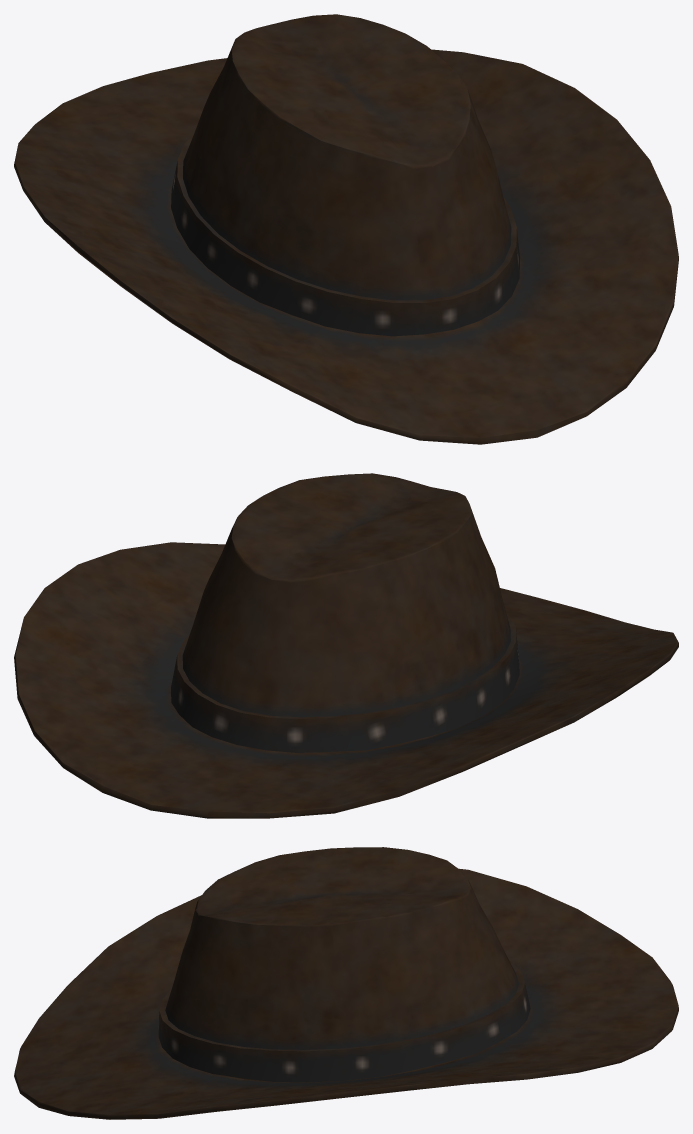
The model's file is wear_cowboy.glb.
The picture shows the model from 3 angles, top to bottom: view 1: azimuth 30°, elevation 25°; view 2: azimuth 150°, elevation 25°; view 3: azimuth 270°, elevation 25°; orthographic projection. The views are drawn at different scales.
Parts seen in each view (by area): view 1: mesh; view 2: mesh; view 3: mesh.
Part boxes in pixels (x1,y1,x2,y2): mesh: (14,14,678,444); mesh: (14,473,678,818); mesh: (14,847,678,1119).
Bounding box in the file's own units: 0.349 × 0.14 × 0.4316.
1 material, 1 textured.
